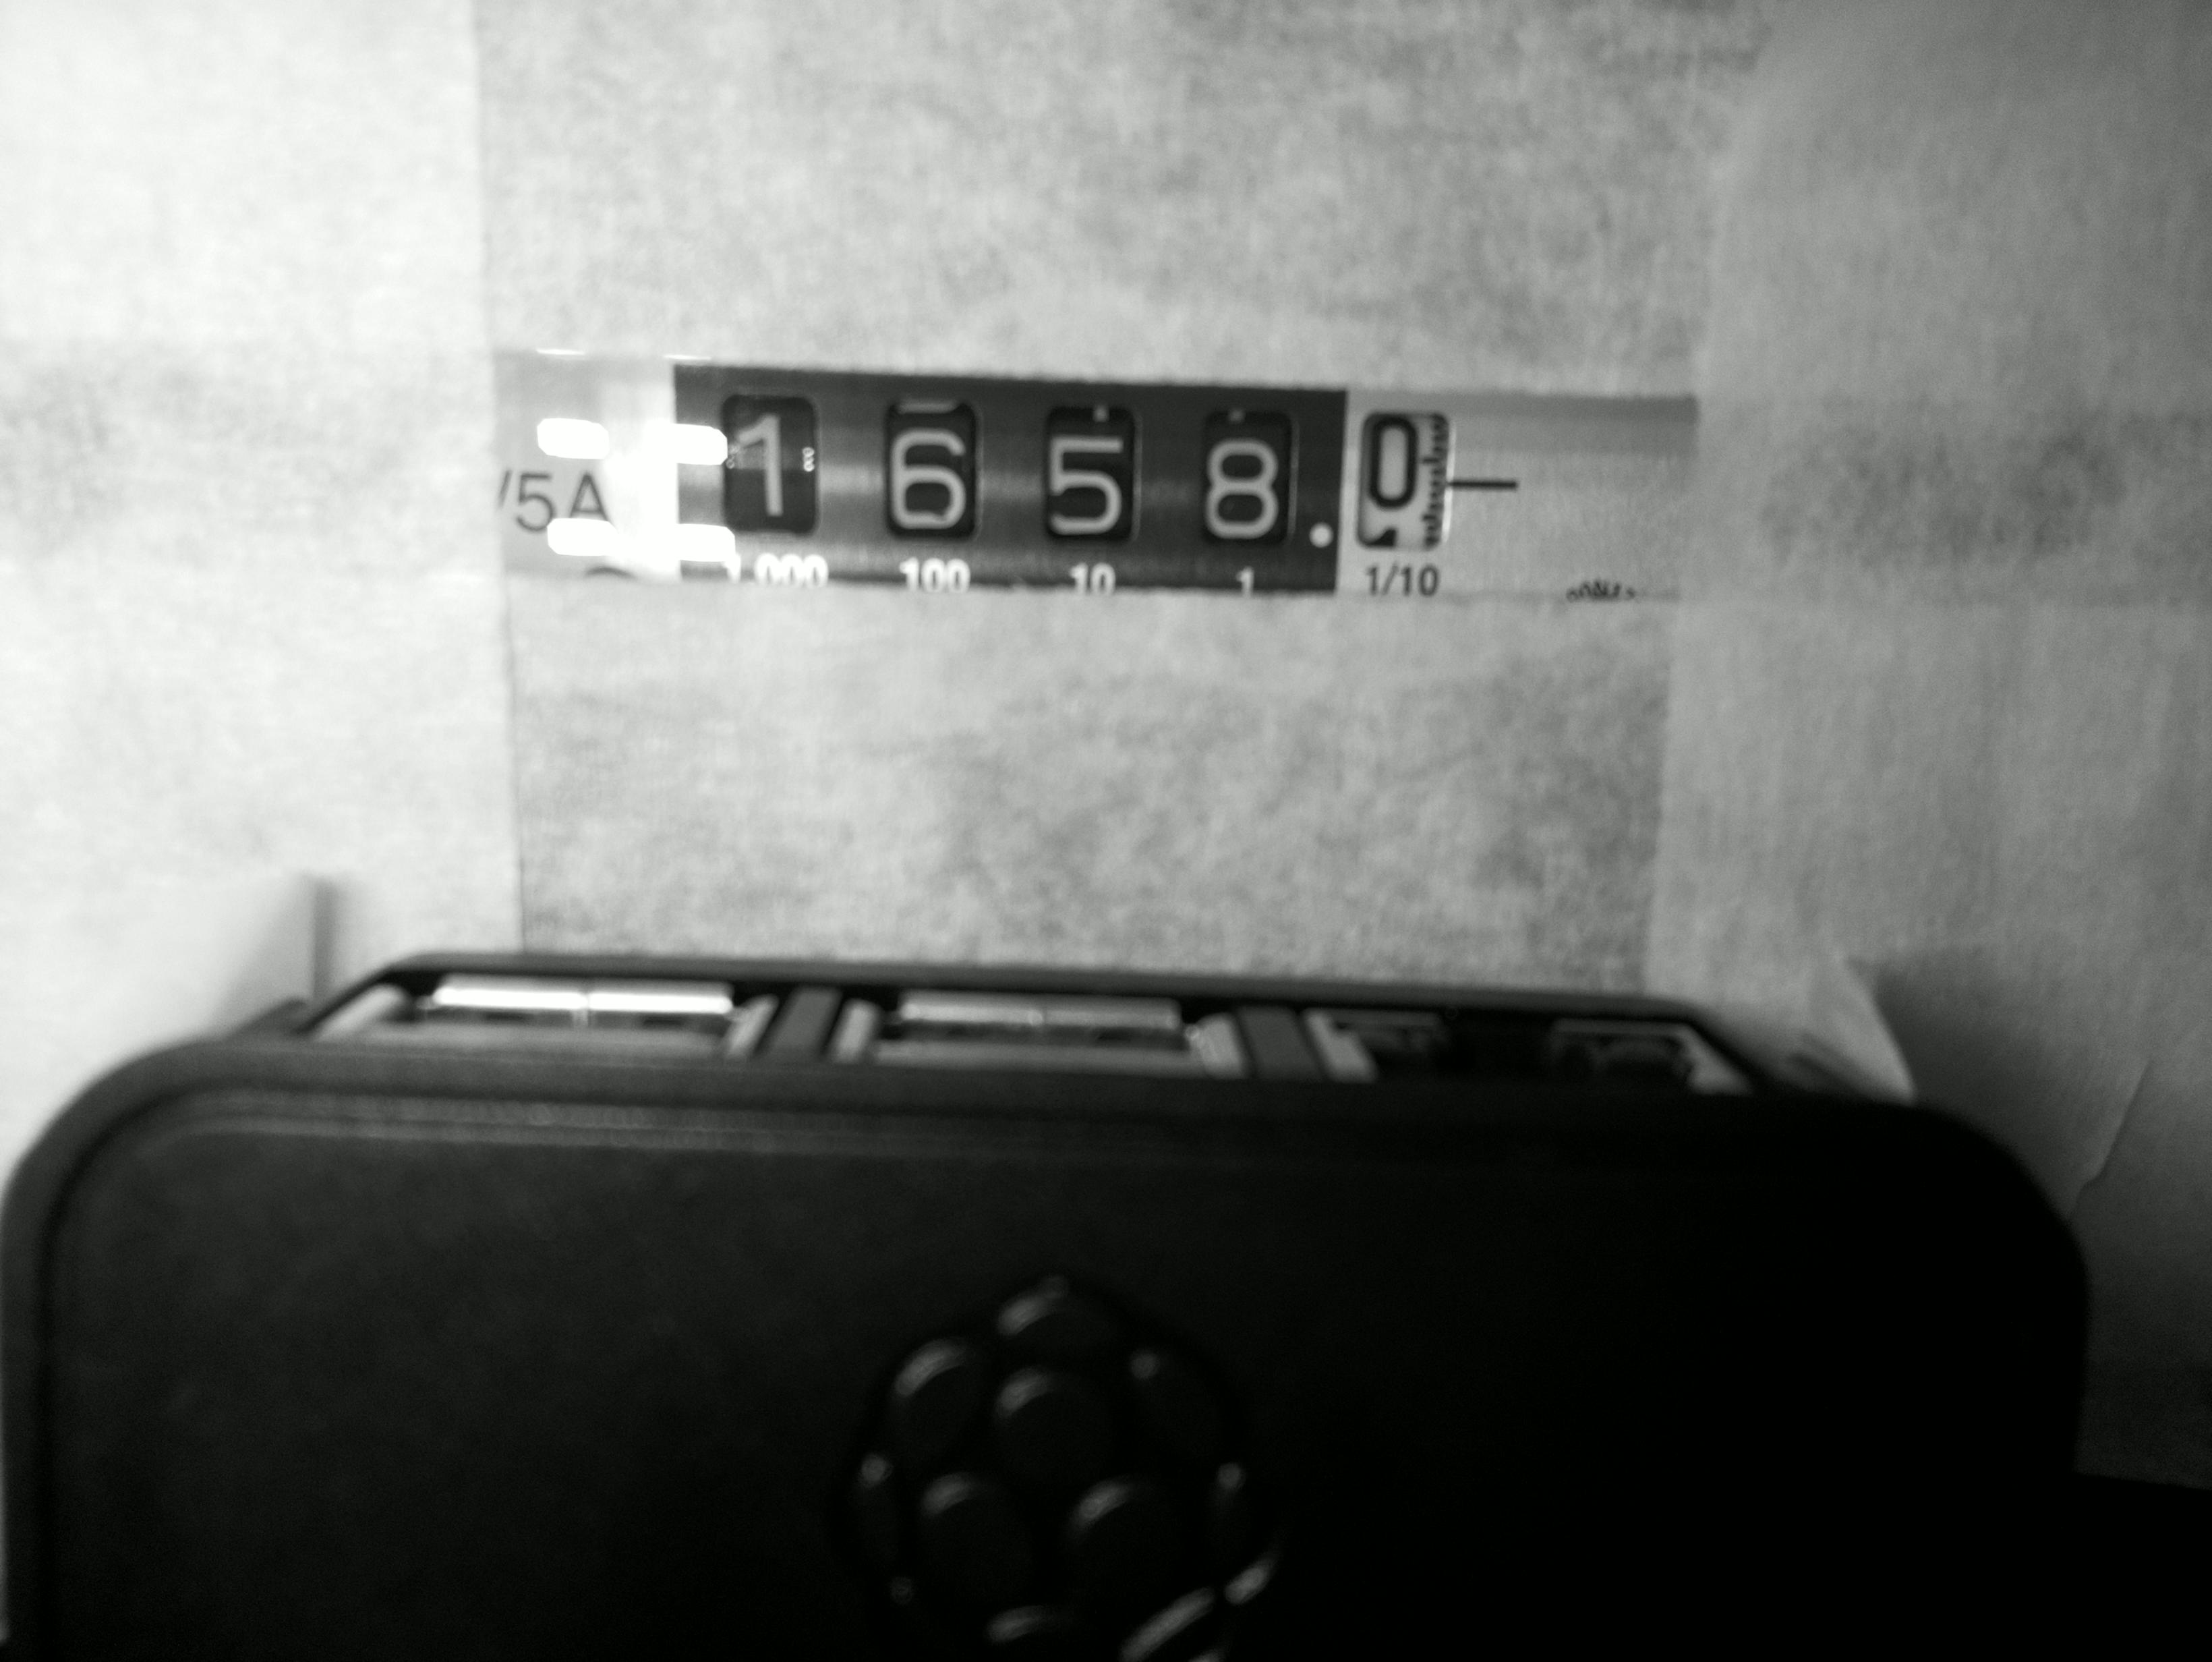meter_box: (712, 332, 1489, 623)
